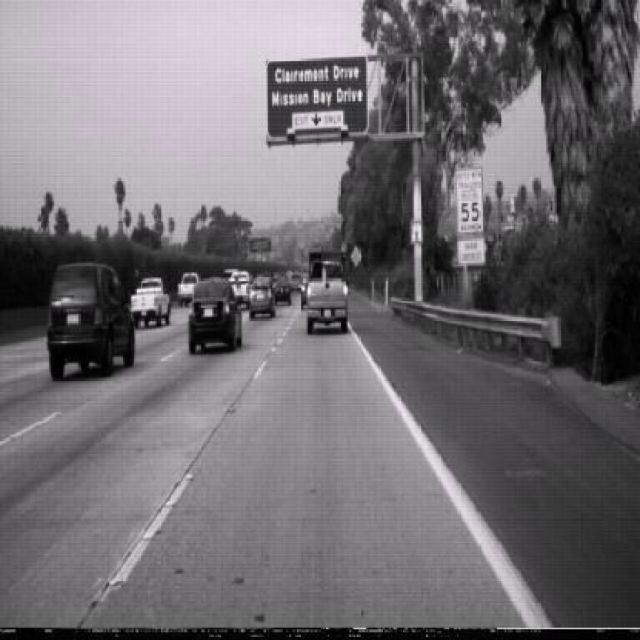truckSpeedLimit55: (456, 166, 484, 237)
